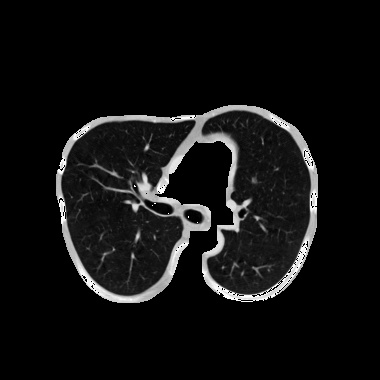PN: (251, 177, 257, 183)
